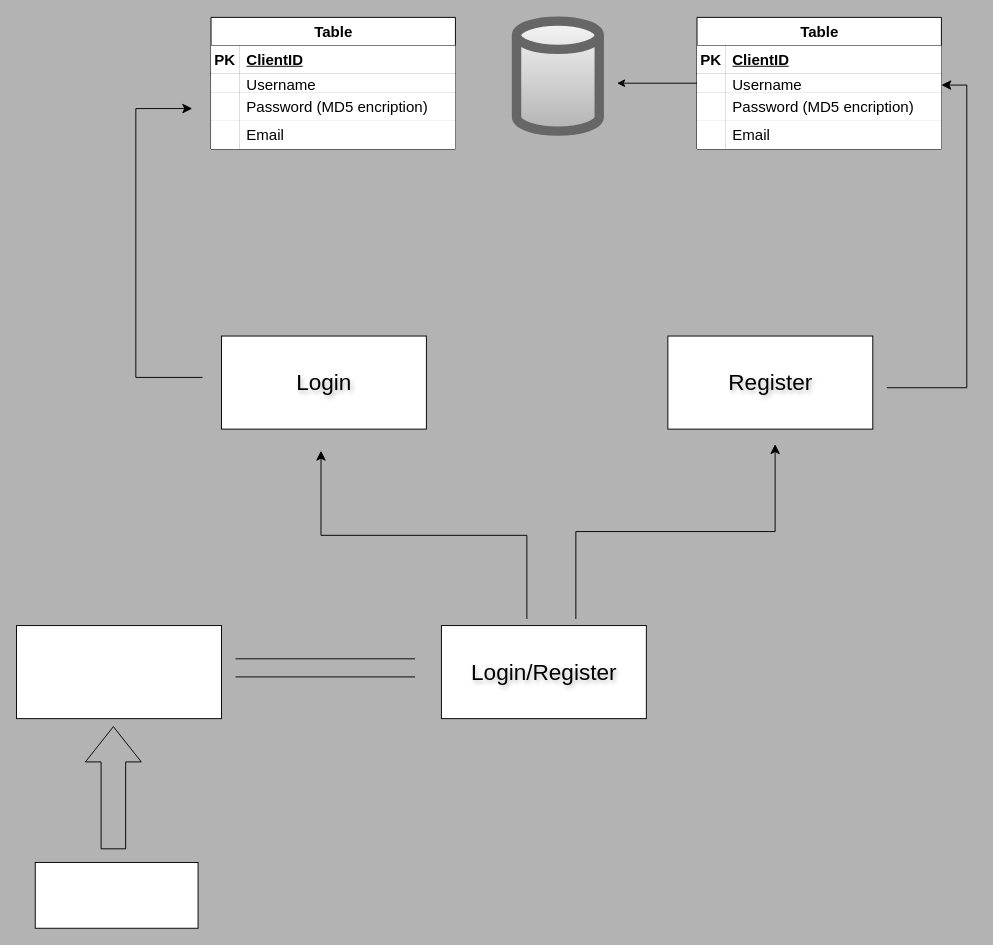
The diagram is 993 pixels wide and 945 high, and some of its shapes have lost their labels. The shapes that lost their labels are listed below. From the top down, each one's centre as x and y in pixels, then its label:
point 118,672: Website
point 116,895: Client
